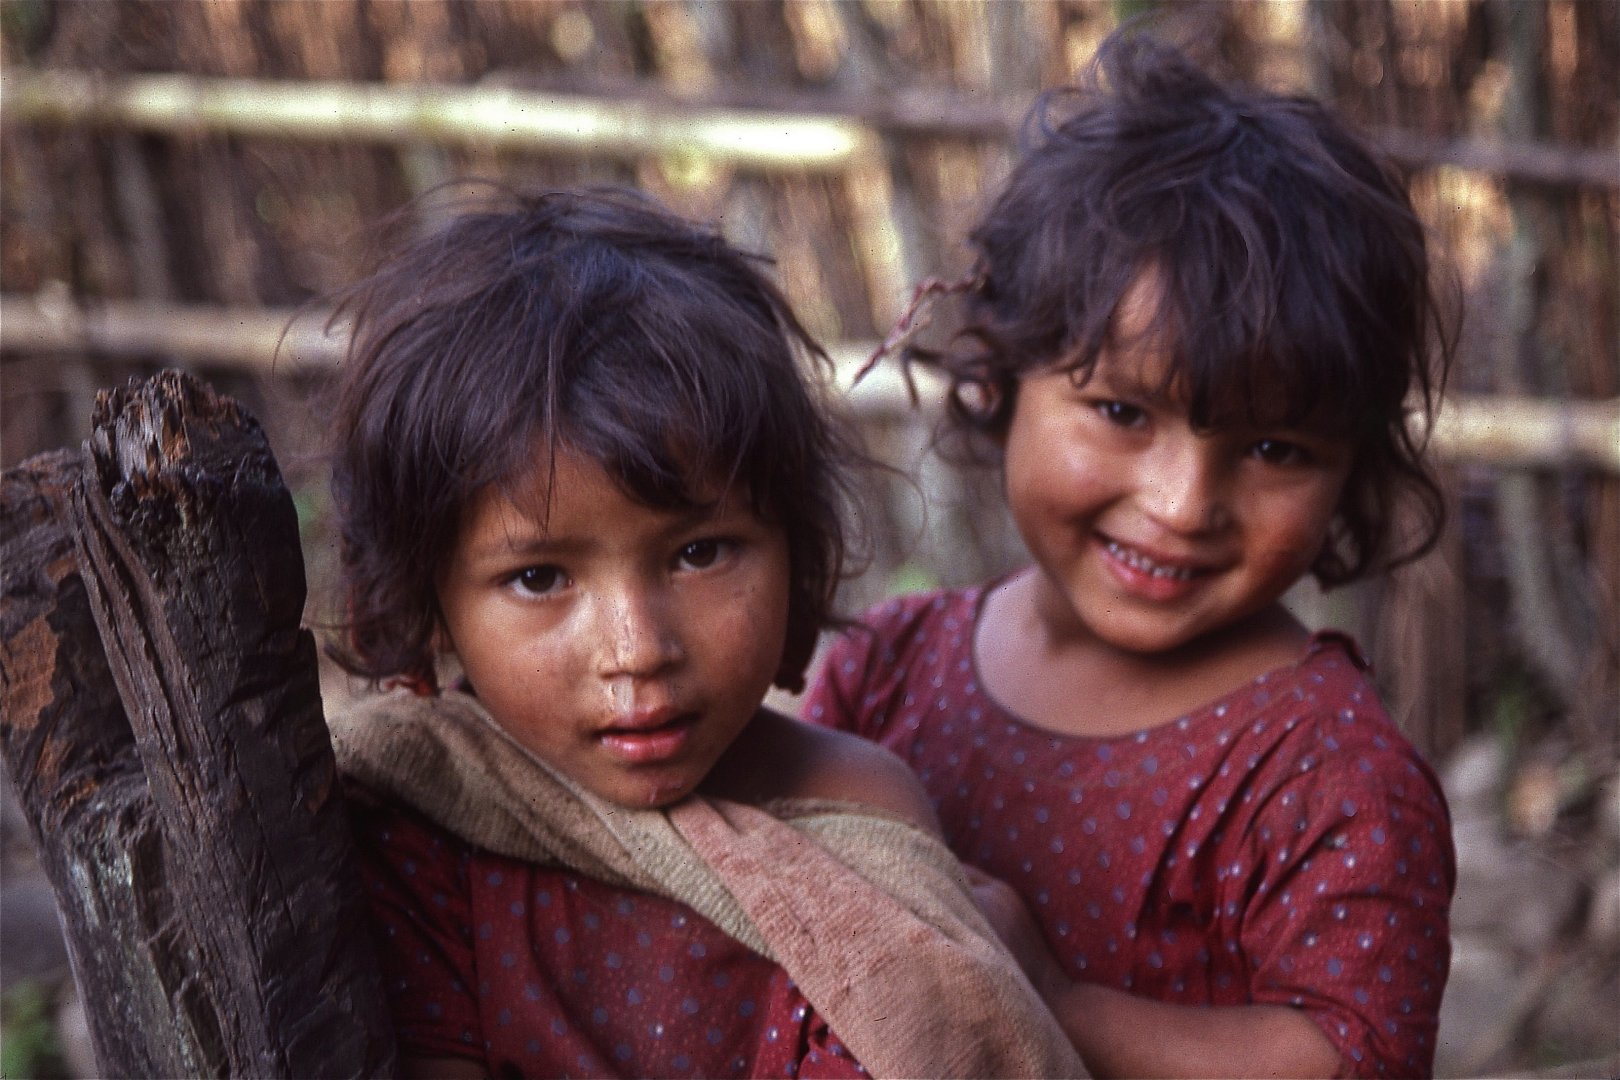human: (797, 50, 1478, 1080), (309, 142, 1055, 1080)
